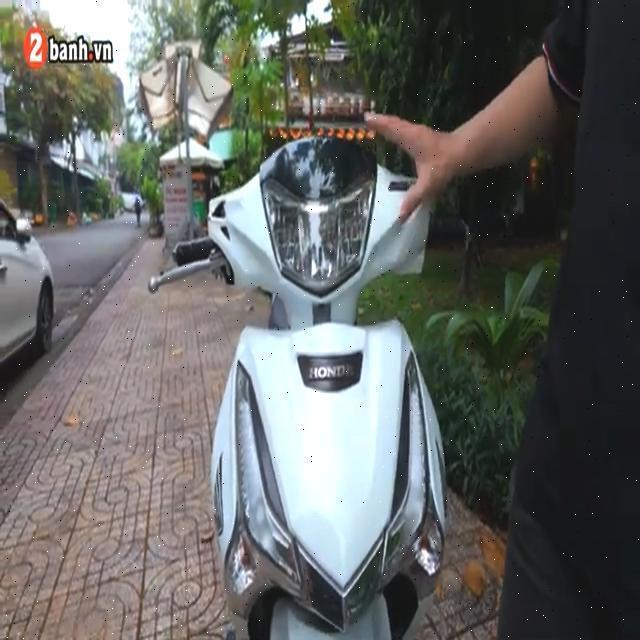car: (0, 196, 63, 429)
motorcycle: (148, 127, 498, 640)
